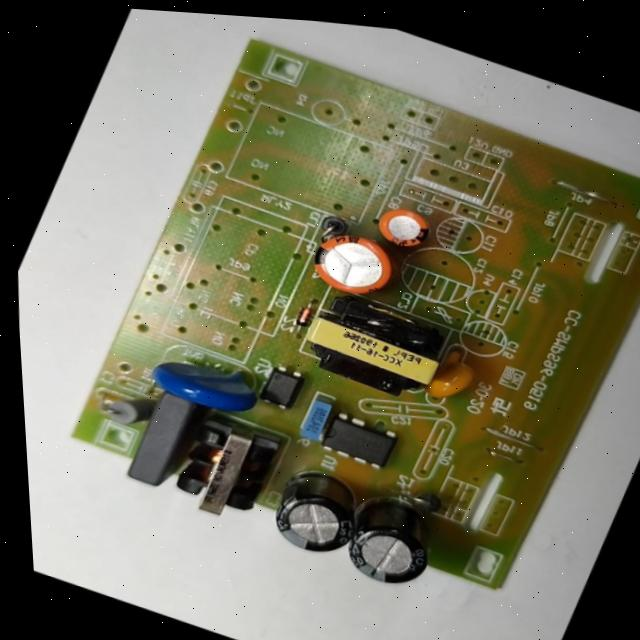Cap1: (297, 216, 410, 309)
Cap2: (369, 197, 435, 253)
Cap3: (258, 458, 379, 567)
Cap4: (332, 482, 455, 597)
MOSFET: (313, 404, 406, 474)
Mov: (138, 334, 276, 426)
Resistor: (95, 378, 163, 432)
Transformer: (292, 288, 463, 410), (155, 403, 292, 531)
